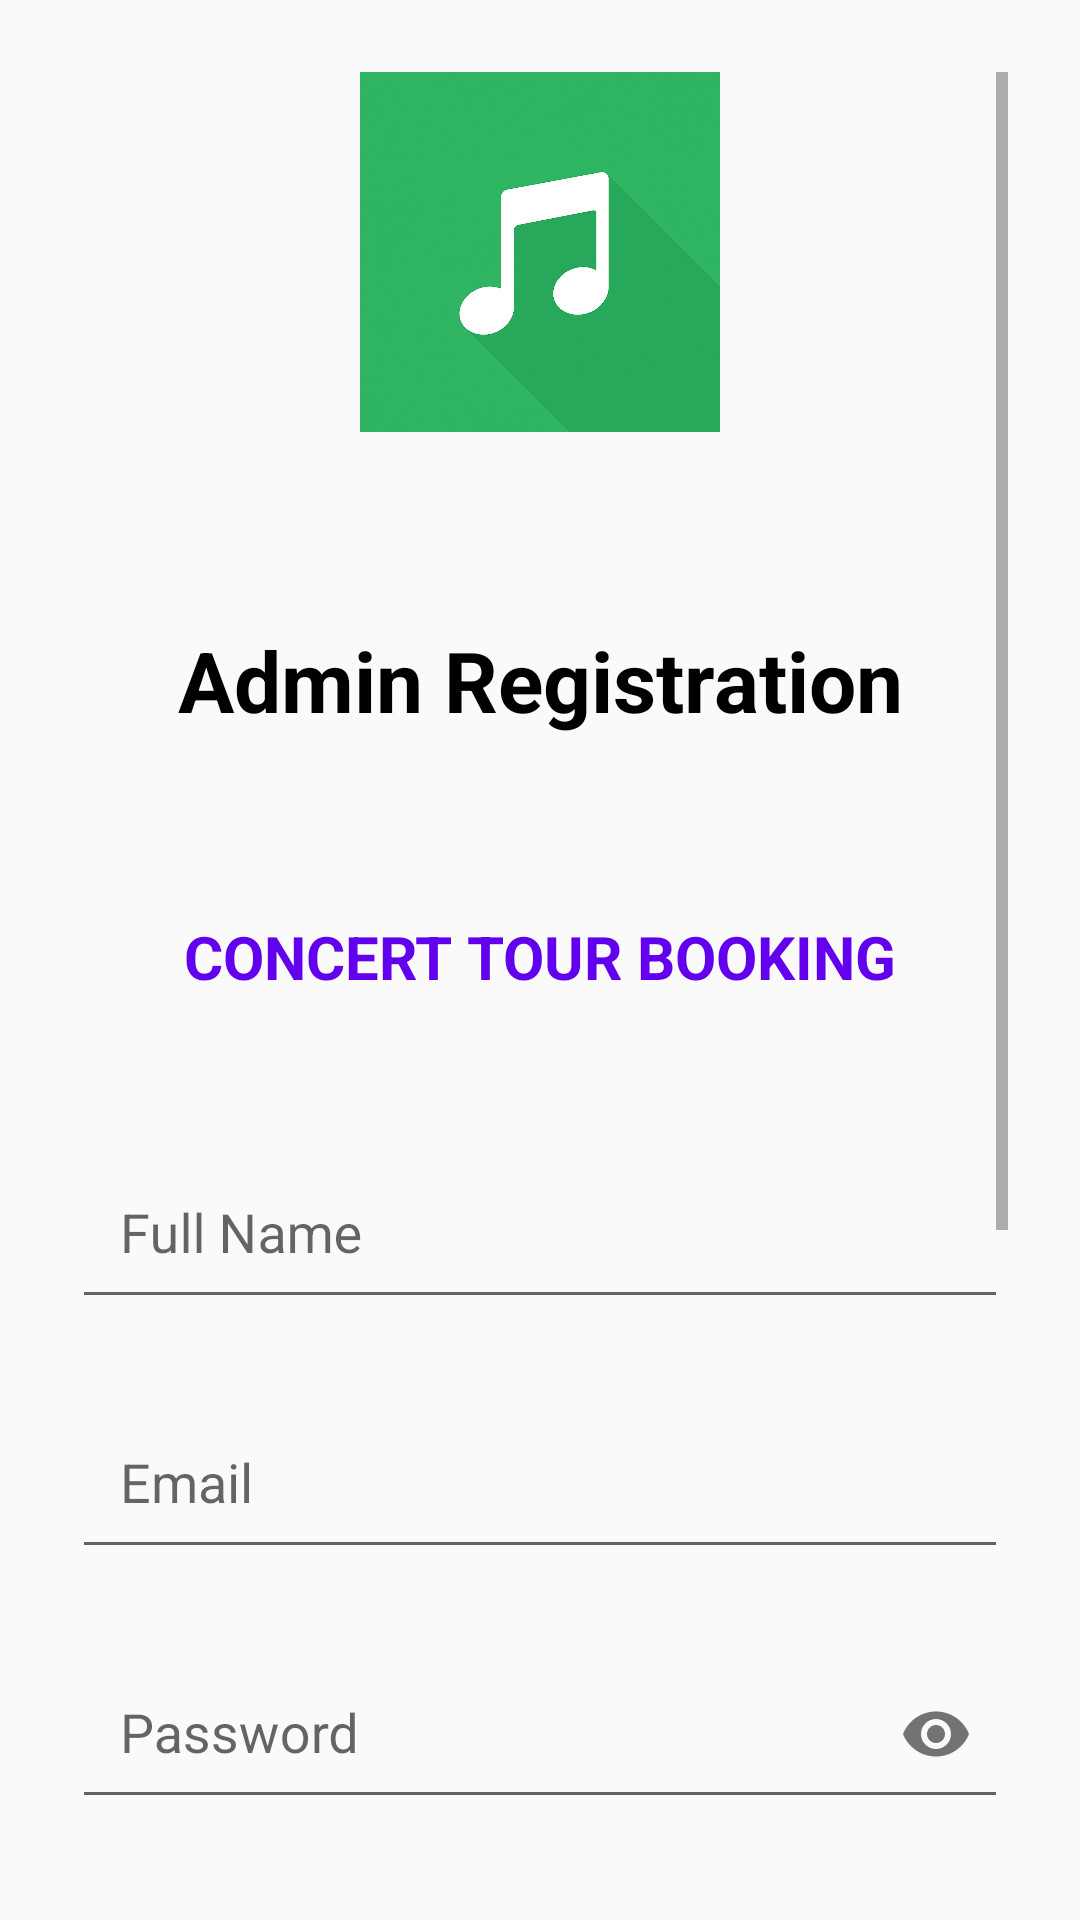

Where to tap for icons on this 1080px x 1920px app screen, as [x,y]:
concert: [540,252]
